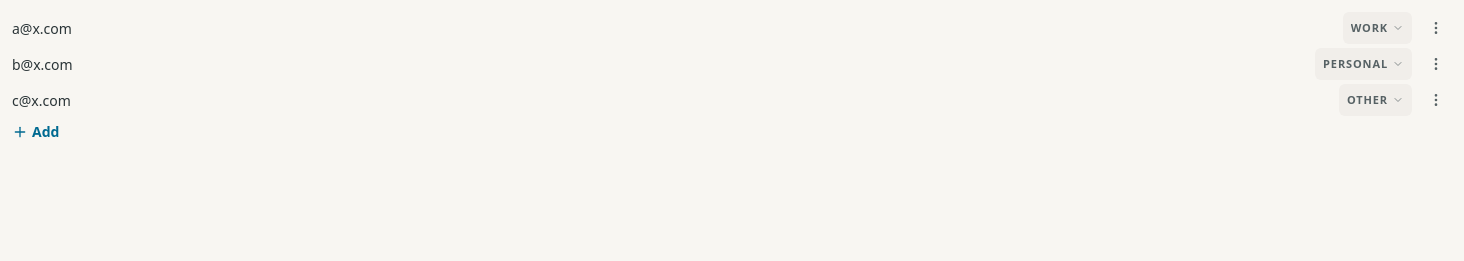
Test case: MultiValueField › hides the drag handle until the row's kebab opens
Click the button named "Actions for b@x.com" at (1436, 64), box [1420, 48, 1452, 80]
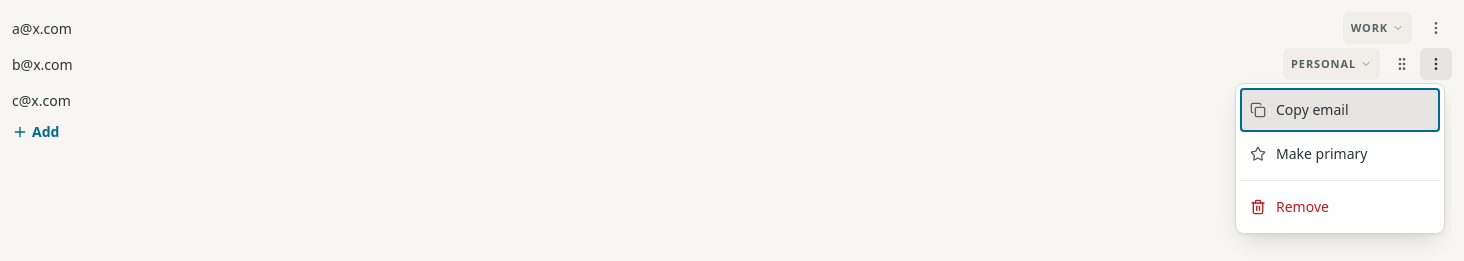
Expected: the number of buttons named "to reorder" is 1, [1388, 50, 1416, 78]
